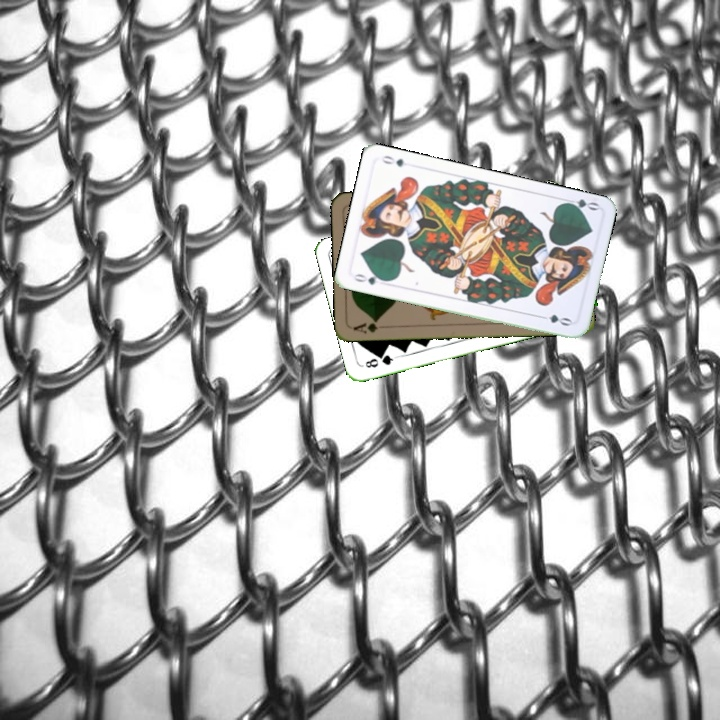G8: (361, 351, 400, 370)
GA: (349, 316, 390, 336)
GO: (560, 194, 601, 215), (350, 270, 390, 288)
